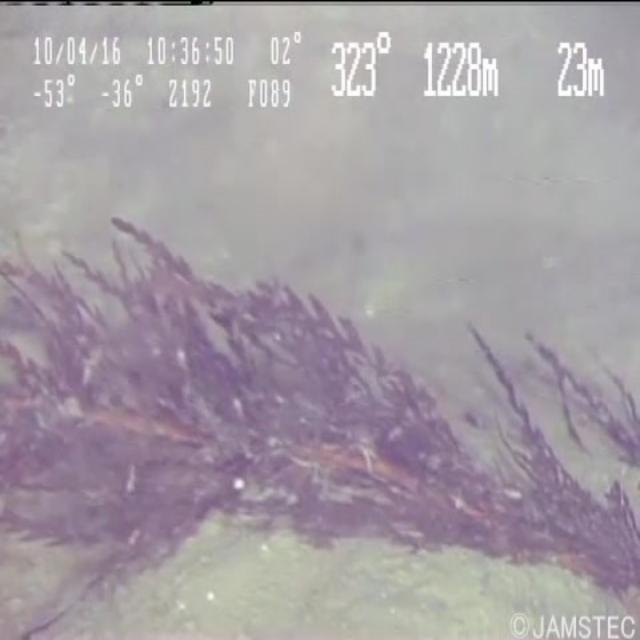Natual-Debris: (1, 198, 640, 640)
